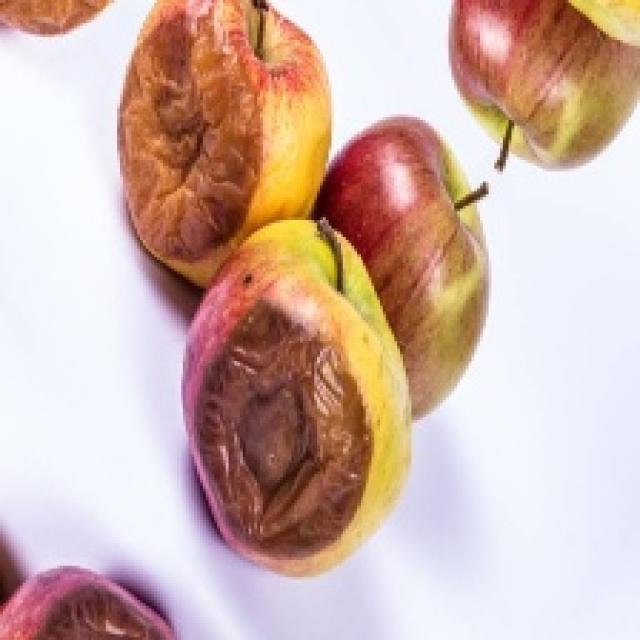rotten_apple: (188, 224, 408, 574), (122, 0, 325, 256), (0, 565, 174, 640)
